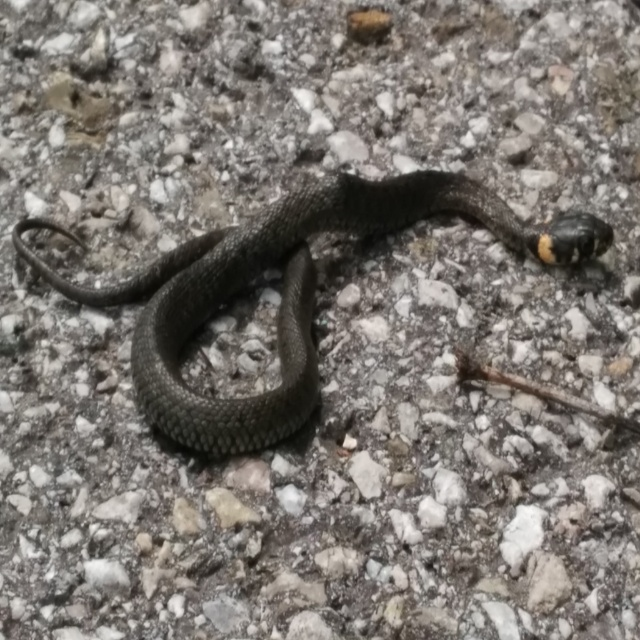Snake: (13, 172, 615, 454)
